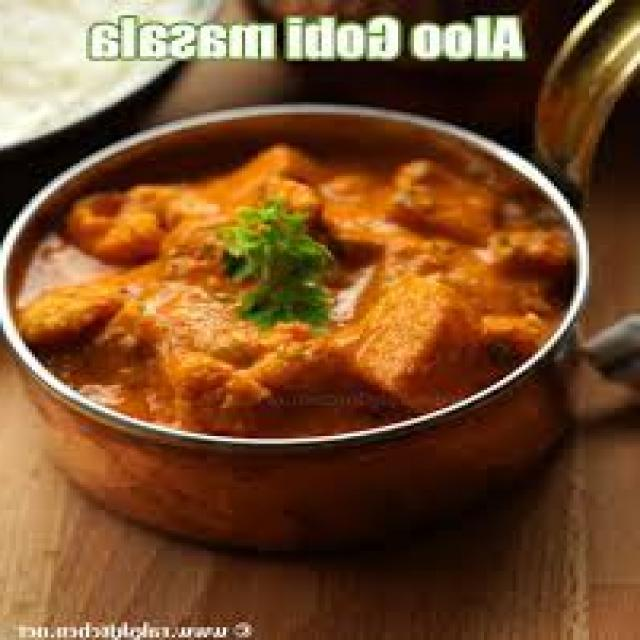Aloo Gobi: (11, 112, 541, 473)
